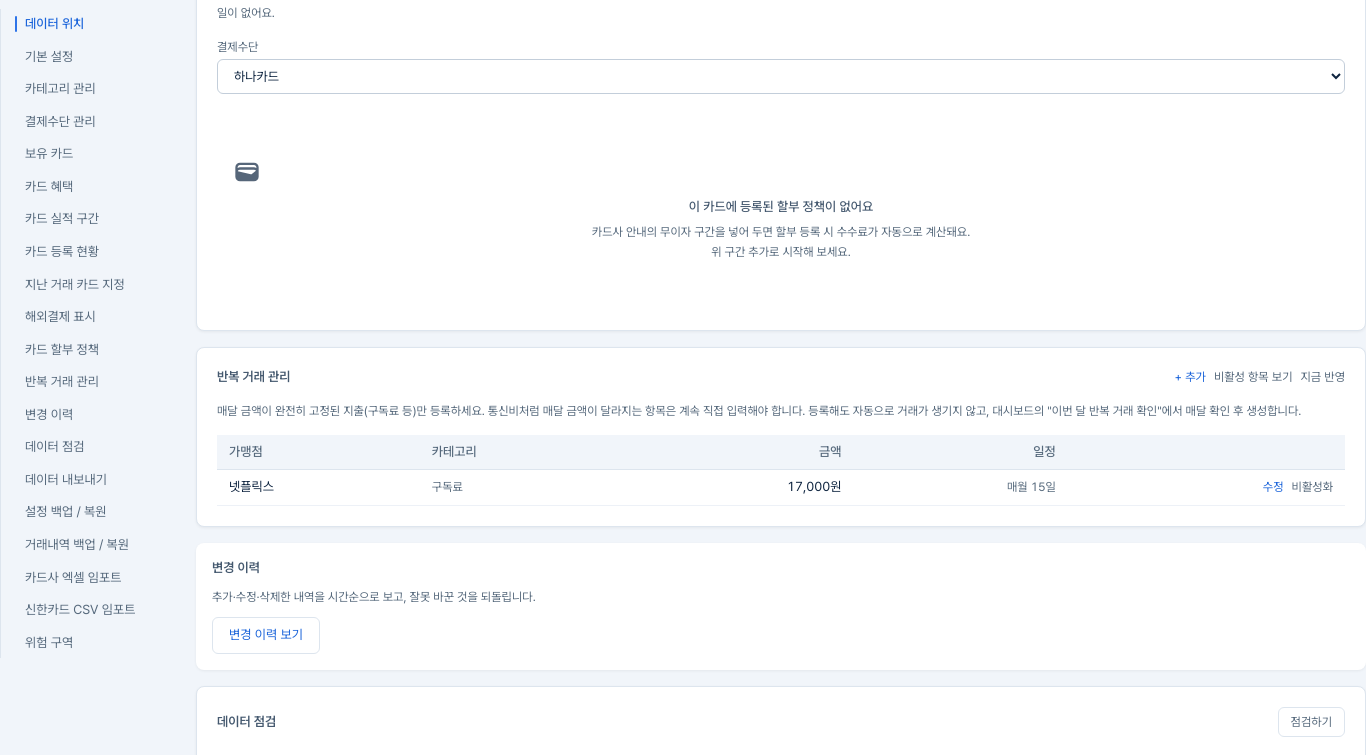
Test: 주기에 따라 달라지는 입력 › 일 주기에는 며칠을 묻지 않는다
(page scrolled)
Click the button "+ 추가" at (1190, 377), box [1175,369,1206,385]
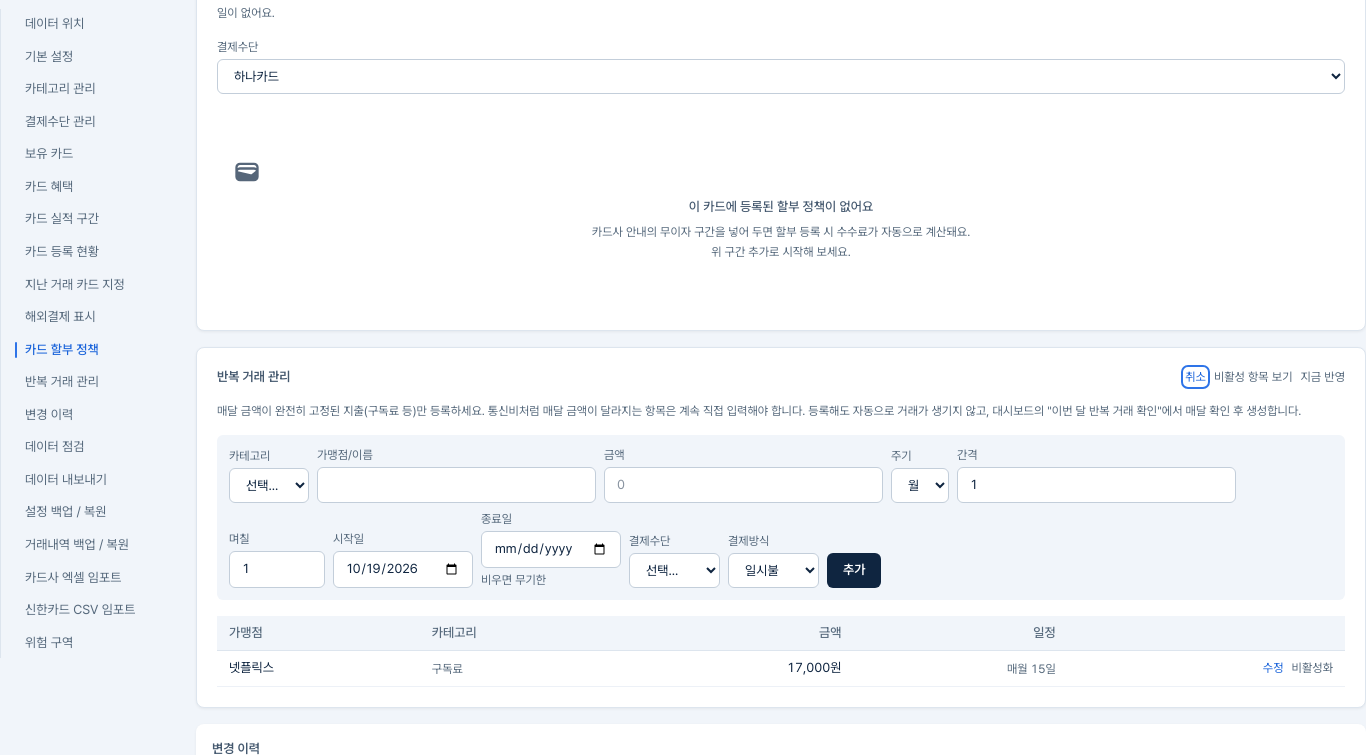
Select "일" in the dropdown labelled "주기" at (920, 486), box [891,468,949,503]
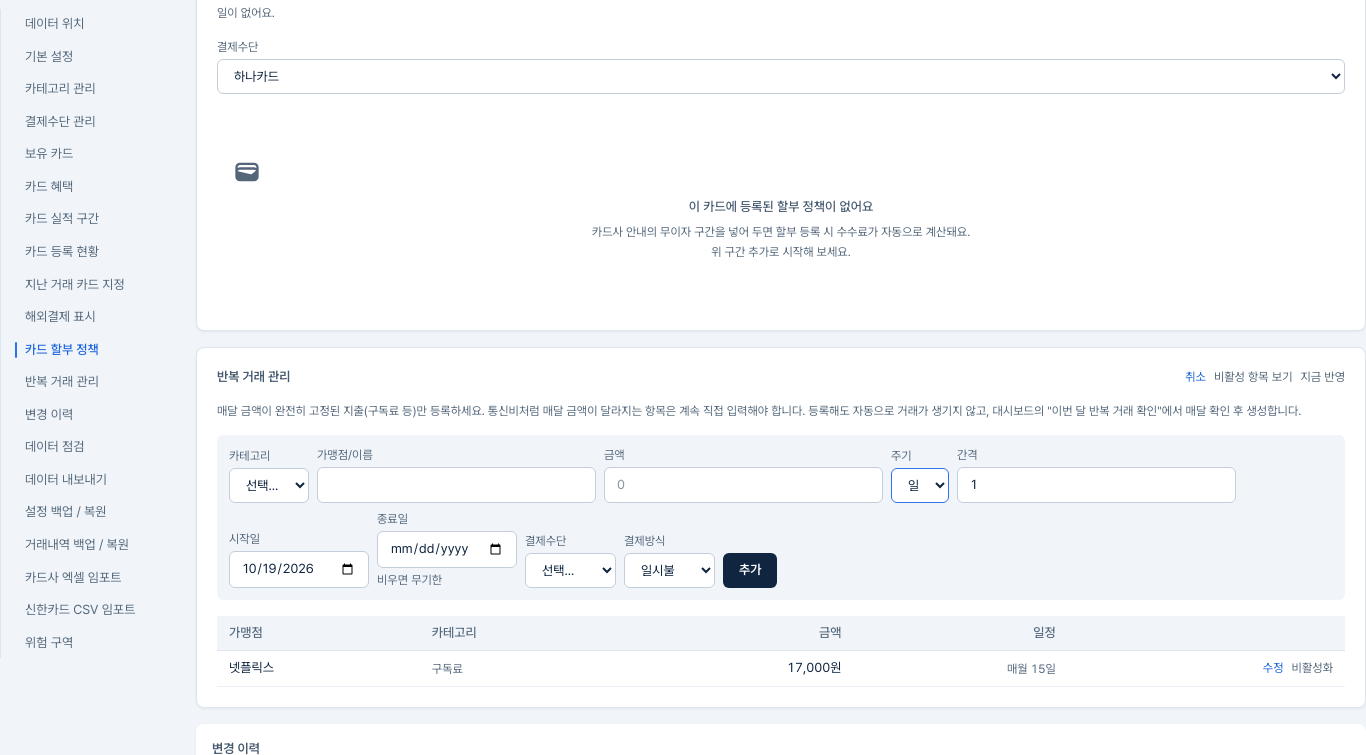
Now the label labelled "며칠" is gone
